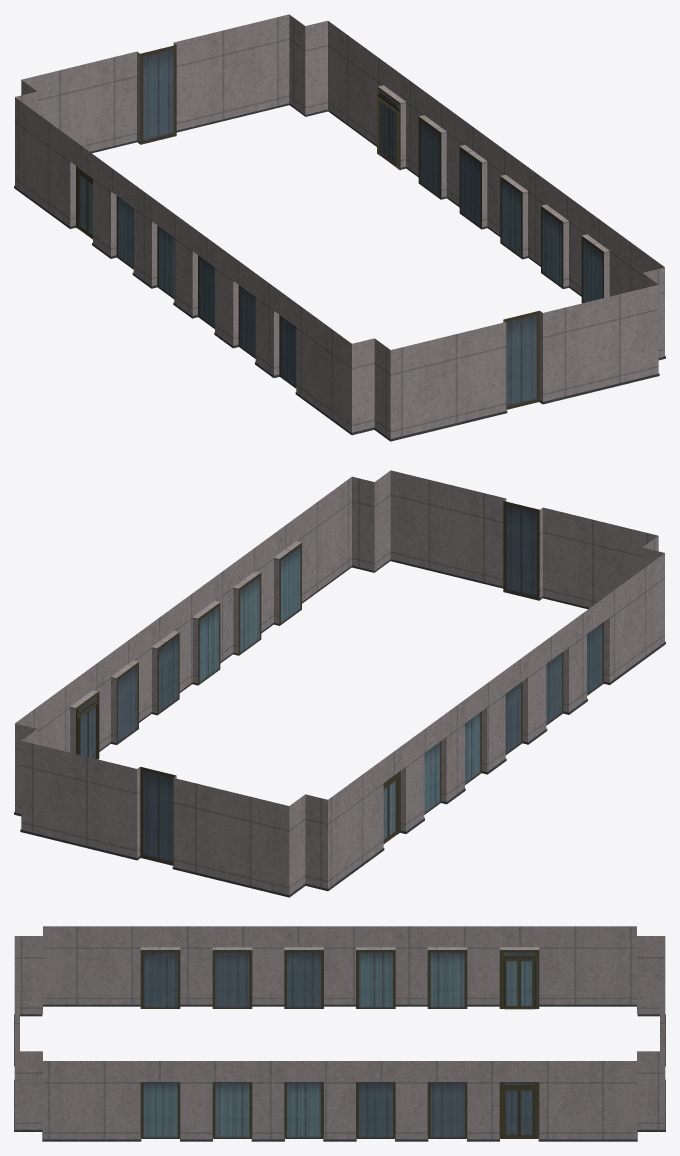
Rendered from jctBld24_12E_btm_low.fbx.
3 renders of one model, top to bottom at view 1: azimuth 30°, elevation 25°; view 2: azimuth 150°, elevation 25°; view 3: azimuth 270°, elevation 25°, orthographic. The views are drawn at different scales.
Parts seen in each view (by area): view 1: jctBld24_12E_btm_low; view 2: jctBld24_12E_btm_low; view 3: jctBld24_12E_btm_low.
Boxes of the visible parts, x1=… form: jctBld24_12E_btm_low: x1=14, y1=14, x2=665, y2=441; jctBld24_12E_btm_low: x1=14, y1=470, x2=665, y2=897; jctBld24_12E_btm_low: x1=14, y1=926, x2=665, y2=1141.
Size of the model in its own units: 1154 by 320 by 2354.
